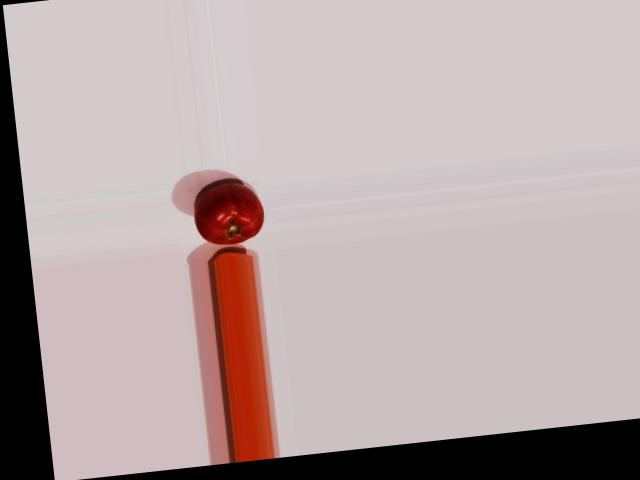tomato: (192, 180, 267, 247)
